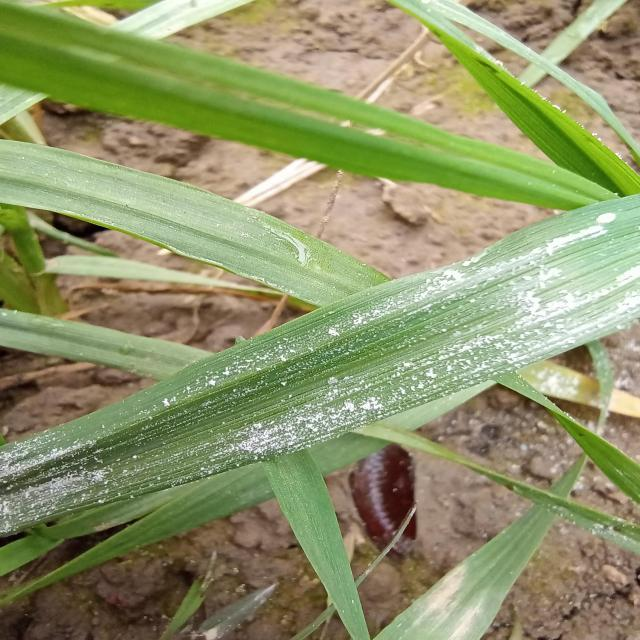Powdery Mildew: (372, 288, 568, 388), (184, 384, 388, 454), (11, 443, 155, 527)
